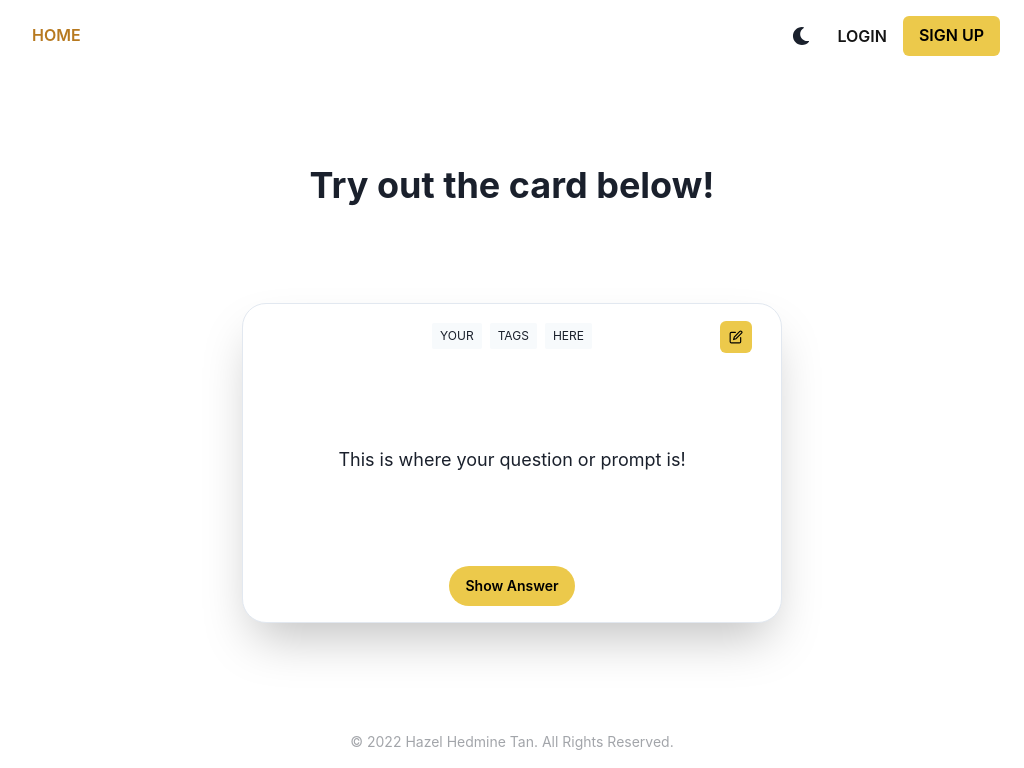
Test: Note app › sign up page can be opened
What coordinates should you click on to do the following:
click the button "SIGN UP"
I would click on:
 (952, 36)
Its box is [903,16,1000,56].
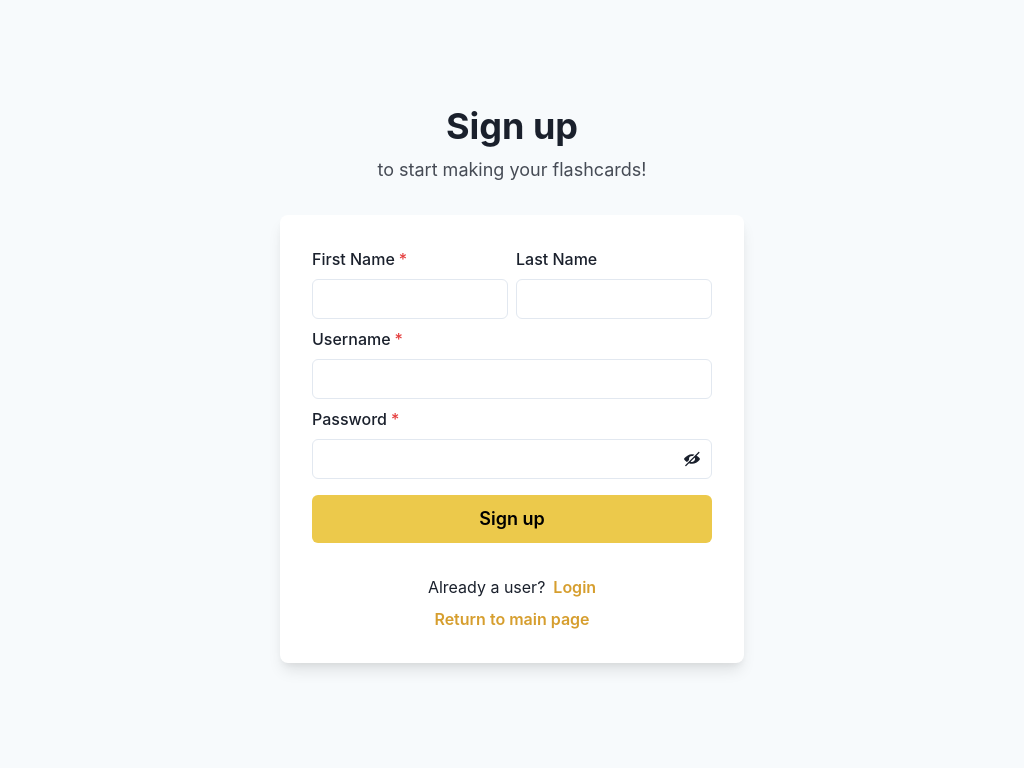
Result: the heading "Sign up" is shown at [446,105,578,148]
Result: the text "to start making your flashcards!" is shown at [378,156,647,183]
